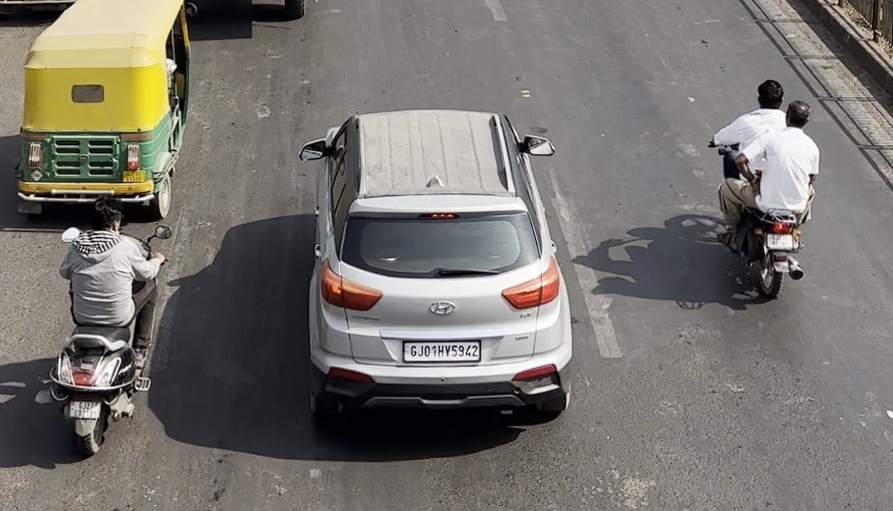BikeWithRider: (39, 198, 188, 456), (698, 63, 840, 316)
NoHelmet: (779, 98, 816, 132), (91, 202, 125, 239), (753, 76, 783, 113)
